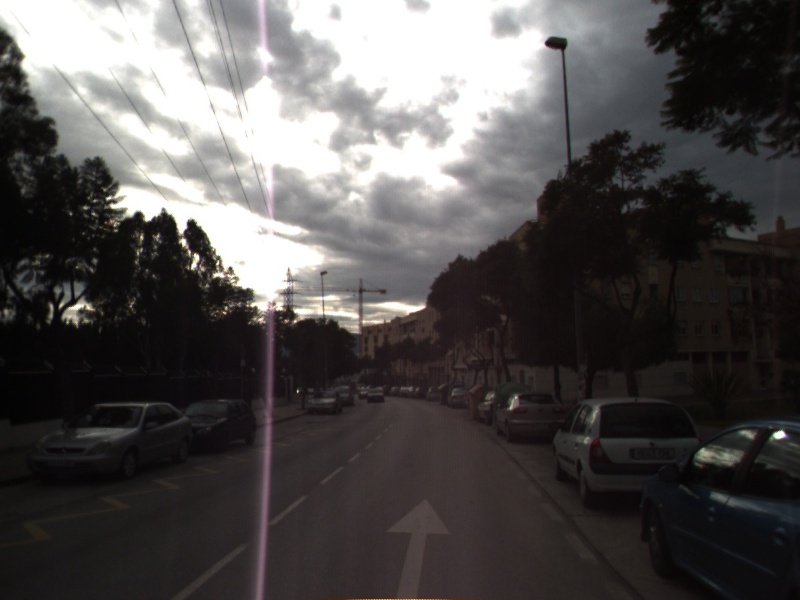STRAIGHT: (384, 495, 453, 600)
